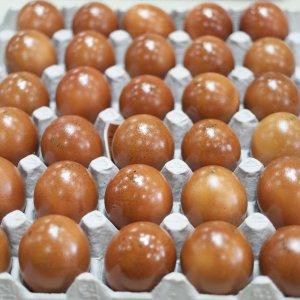egg: (1, 1, 300, 293)
